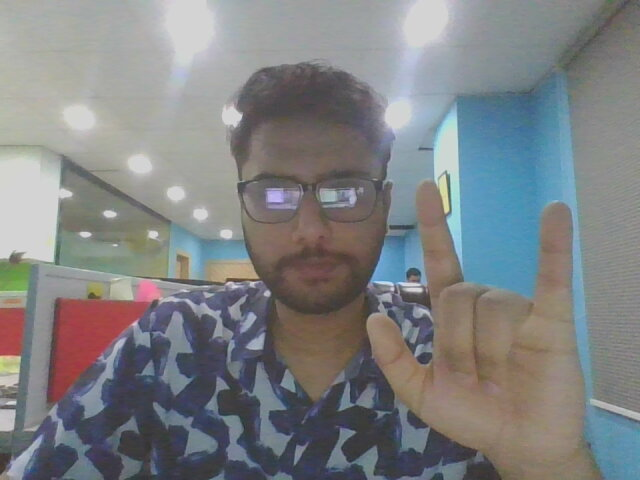iloveyou: (367, 171, 620, 451)
